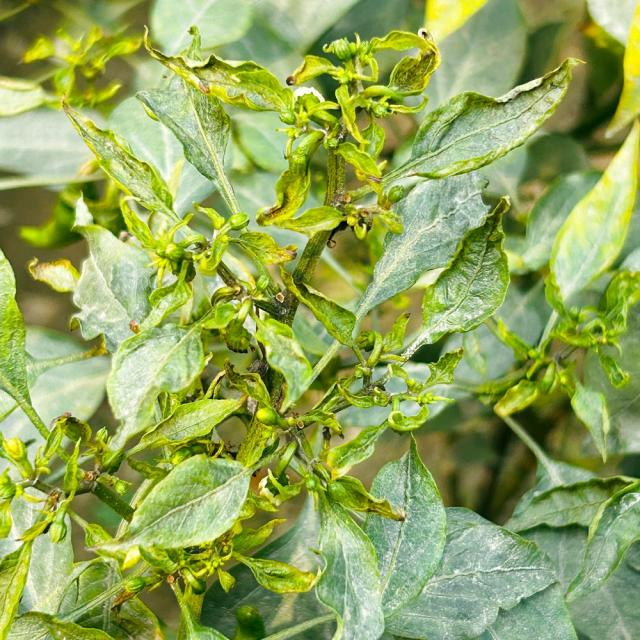Chilli_Leaf_Curl: (1, 10, 635, 638), (374, 55, 586, 197), (349, 170, 492, 344), (392, 194, 512, 364), (59, 98, 178, 220), (124, 452, 252, 552)
